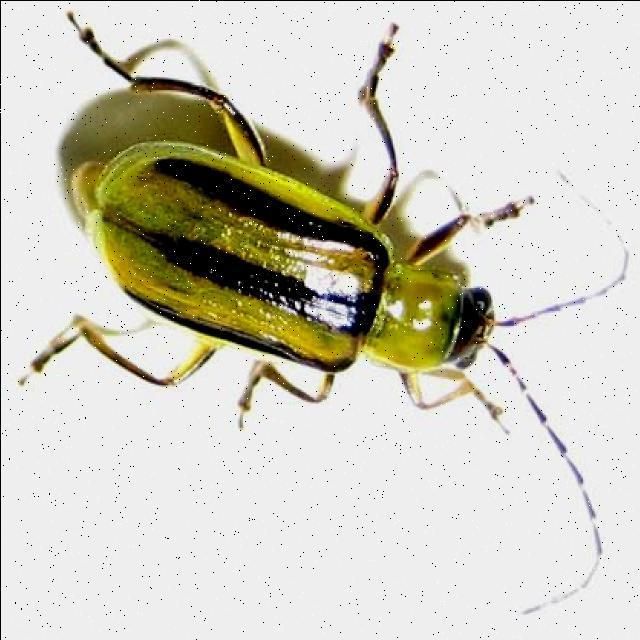trips: (19, 9, 629, 612)
